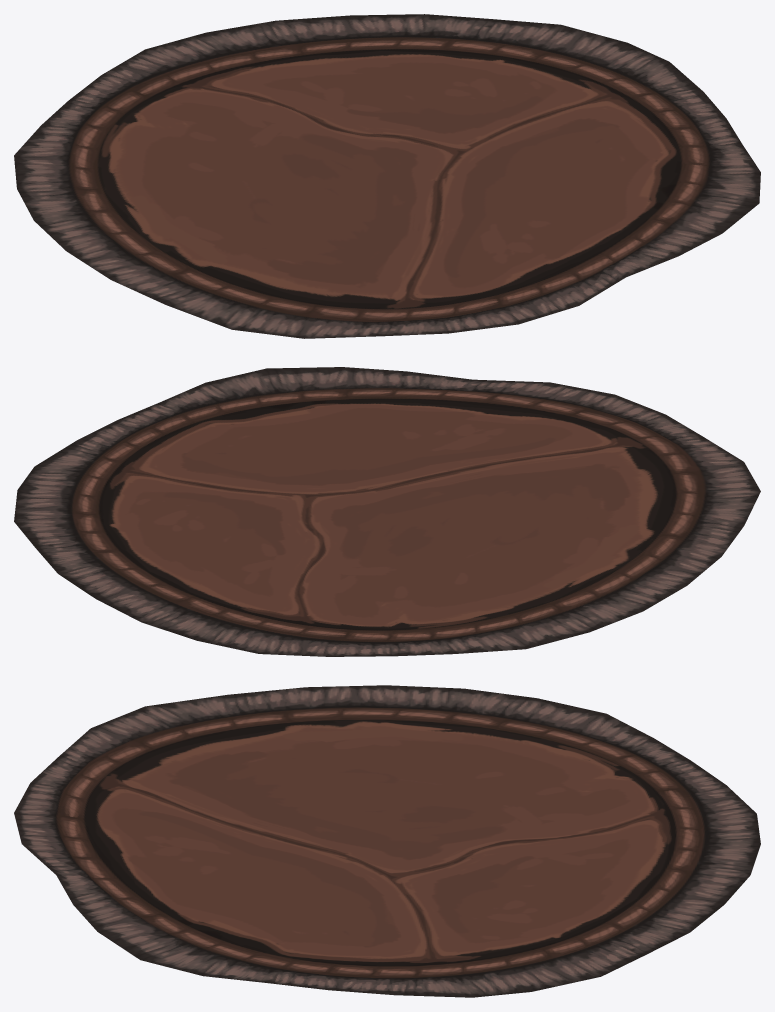
The model's file is SM_PROP_rug_dungeon_05.fbx.
3 views of the same model, one above another, from view 1: azimuth 30°, elevation 25°; view 2: azimuth 150°, elevation 25°; view 3: azimuth 270°, elevation 25° (orthographic). The views are drawn at different scales.
Parts seen in each view (by area): view 1: SM_PROP_rug_dungeon_05; view 2: SM_PROP_rug_dungeon_05; view 3: SM_PROP_rug_dungeon_05.
Part boxes in pixels (x1=…): SM_PROP_rug_dungeon_05: x1=14, y1=14, x2=760, y2=338; SM_PROP_rug_dungeon_05: x1=14, y1=367, x2=760, y2=656; SM_PROP_rug_dungeon_05: x1=14, y1=685, x2=760, y2=997.
Size of the model in its own units: 237 by 0 by 240.
